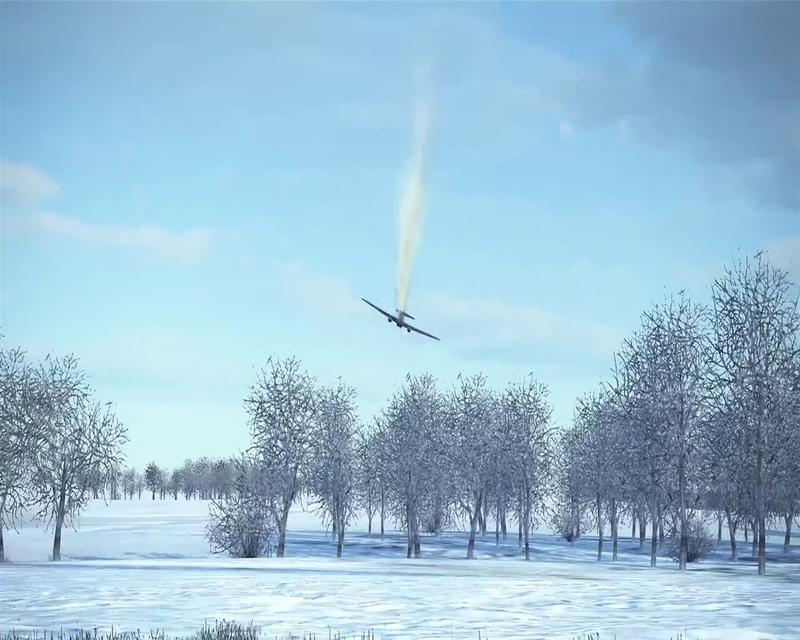UAV: (360, 296, 441, 343)
